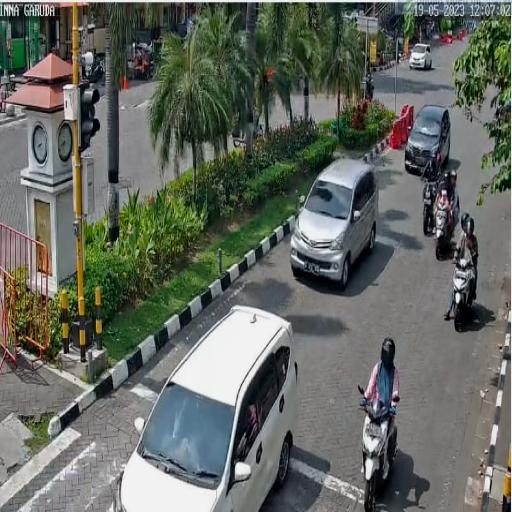mobil: (118, 302, 304, 512), (292, 155, 376, 292), (404, 98, 452, 180)
motor: (358, 383, 401, 511), (452, 234, 479, 332), (434, 191, 460, 267), (418, 175, 434, 243)
